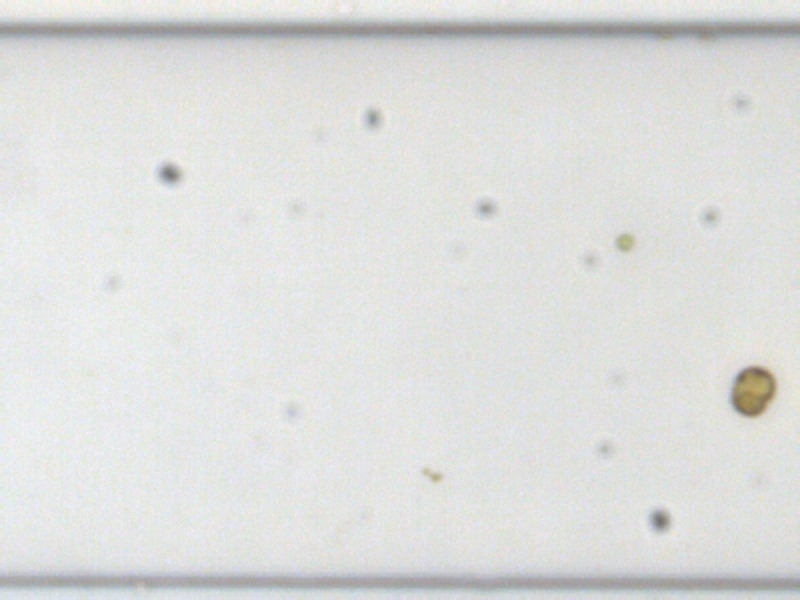Chlorella: (614, 232, 634, 250)
Effrenium: (726, 364, 778, 416)
